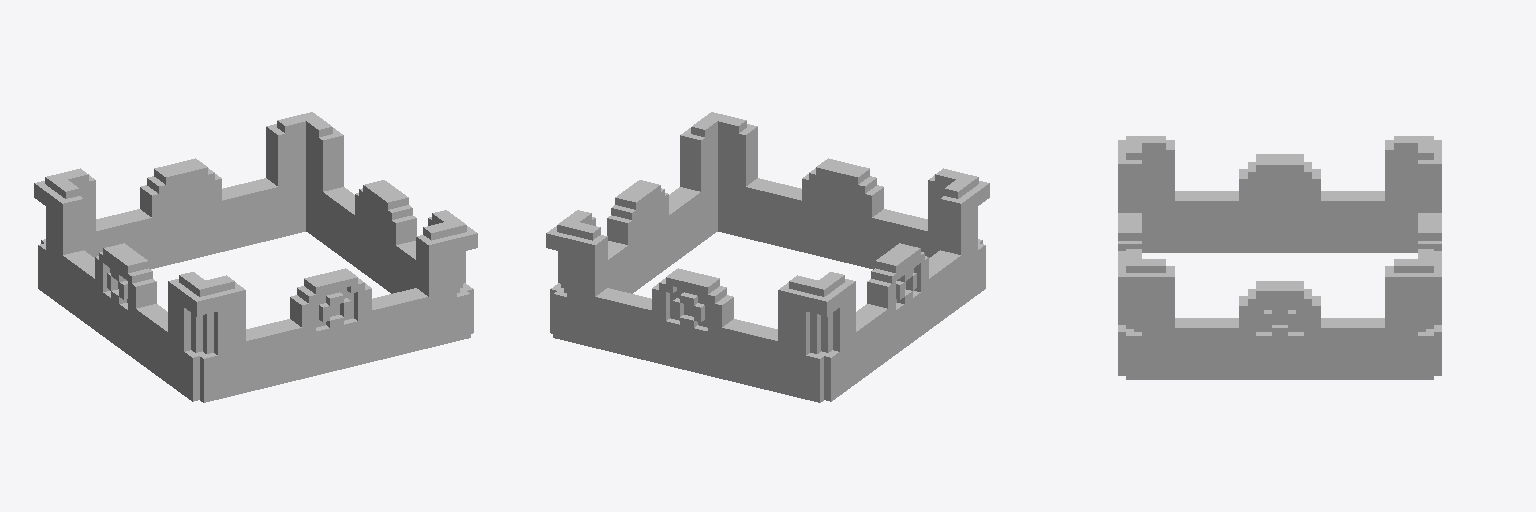
The model's file is Crown 1.obj.
3 renders of one model, left to right at view 1: azimuth 30°, elevation 25°; view 2: azimuth 150°, elevation 25°; view 3: azimuth 270°, elevation 25°, orthographic.
Visible parts, largest first — view 1: object 1; view 2: object 1; view 3: object 1.
Part boxes in pixels (x1,y1,x2,y2): object 1: (34, 112, 477, 402); object 1: (546, 112, 989, 402); object 1: (1118, 136, 1441, 379).
Size of the model in its own units: 4 by 1.5 by 4.